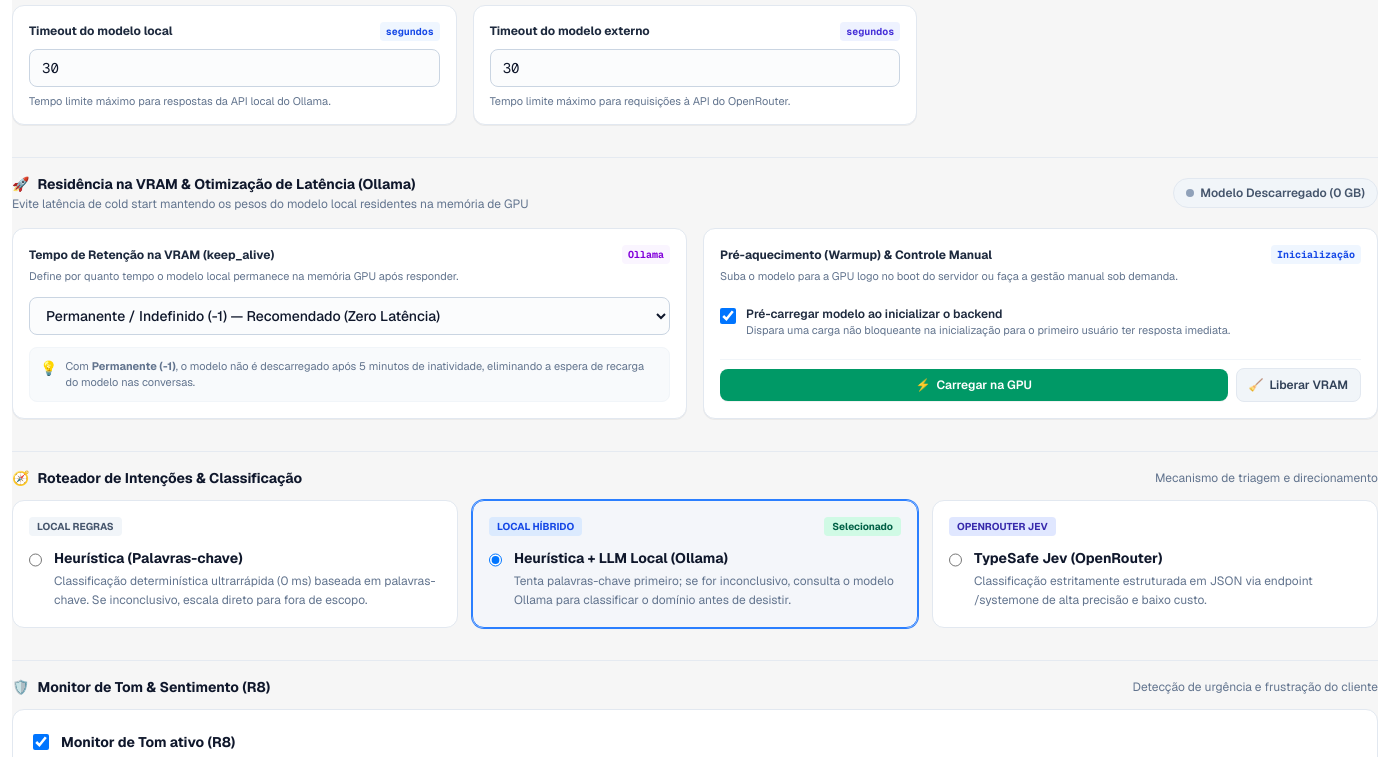
Test: RuntimeSettingsForm › executa ação manual de carregar na GPU via preloadLocalModel
(page scrolled)
Click the button "⚡ Carregar na GPU" at (974, 385), box [720,369,1228,401]
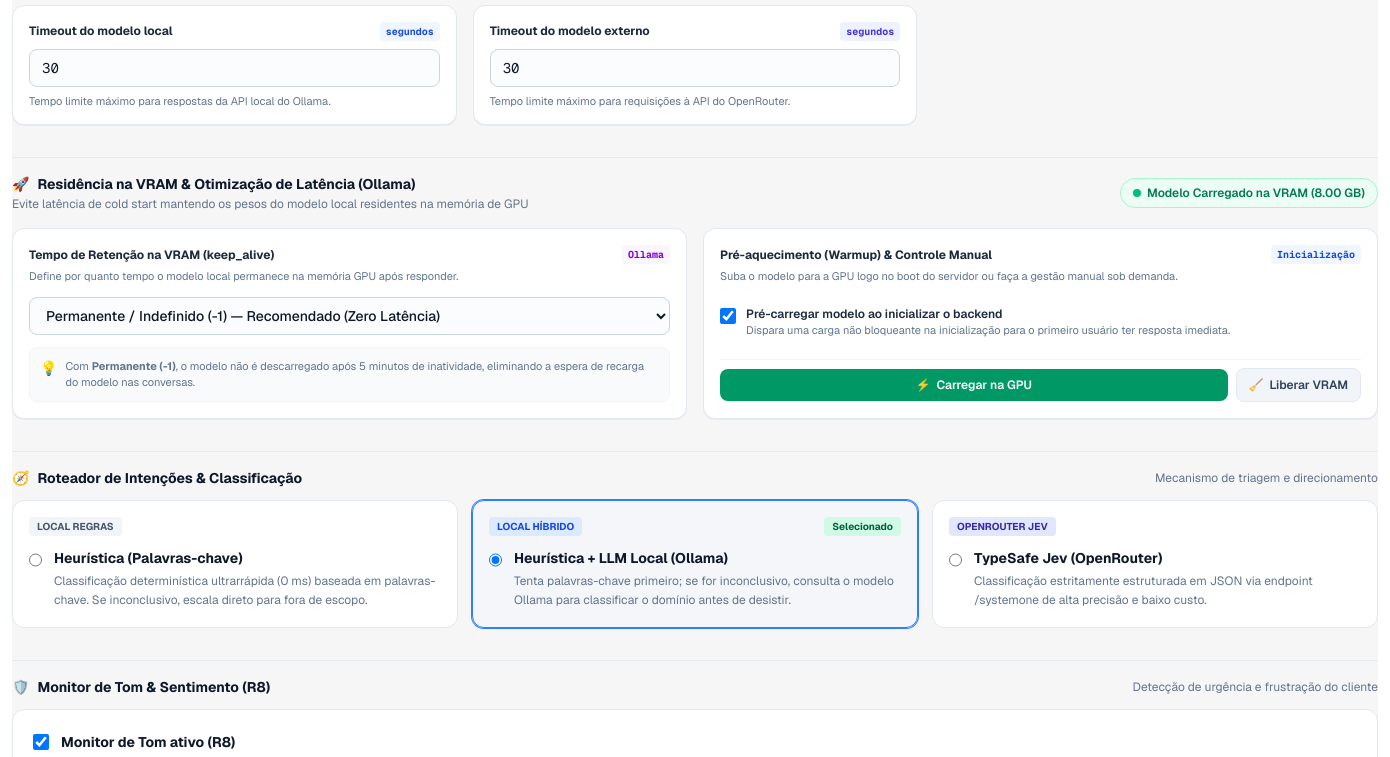
Now the text "Modelo Carregado na VRAM (8.00 GB)" is shown, box [1120,178,1378,208]
